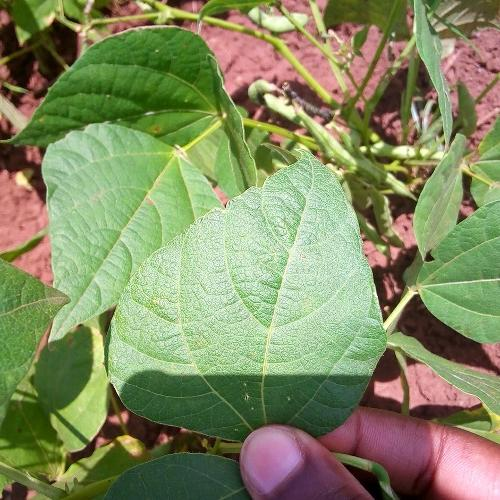sehat: (142, 204, 366, 401)
